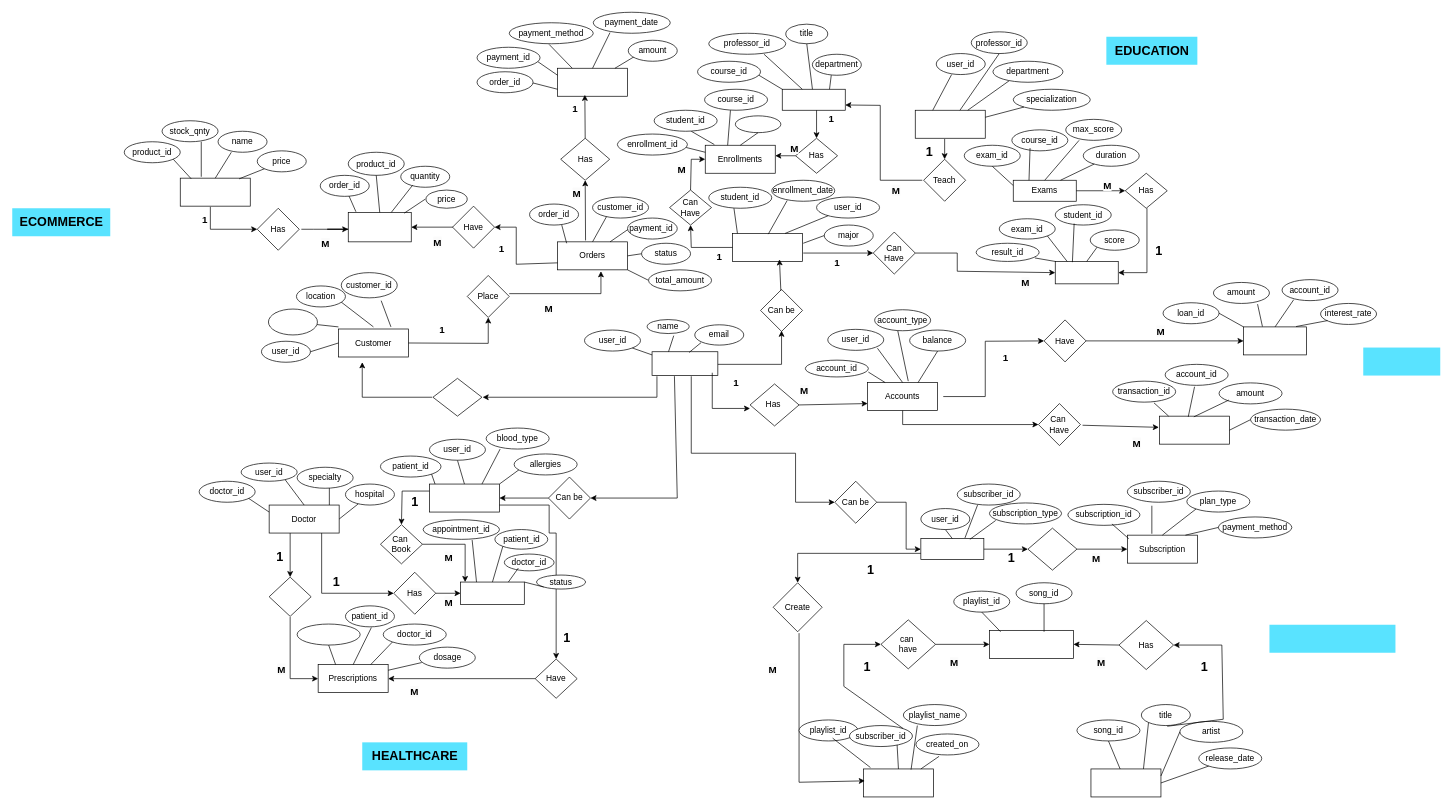
Some shapes in this 1452 by 809 pixel diagram are drawn without their labels. The shapes that lost their labels are listed below. From the top down, each one's centre as x and y in pixels, then its label:
At [592,82]: "Payments".
At [813,99]: "Courses".
At [758,124]: "year".
At [950,124]: "Professors".
At [215,191]: "Product".
At [379,227]: "OrderDetails".
At [767,247]: "Student".
At [1086,272]: "ExamResult".
At [292,321]: "custname".
At [1275,340]: "Loan".
At [684,363]: "User".
At [1401,361]: "BANKING".
At [457,397]: "Is a".
At [1194,429]: "Transactions".
At [464,497]: "Patient".
At [952,549]: "Subscriber".
At [1052,548]: "Buy".
At [289,596]: "Issue".
At [492,592]: "Appointment".
At [328,634]: "prescription_id".
At [1031,644]: "PlaylistSongs".
At [1332,638]: "ENTERTAINMENT".
At [898,782]: "Playlist".
At [1125,782]: "Songs".
